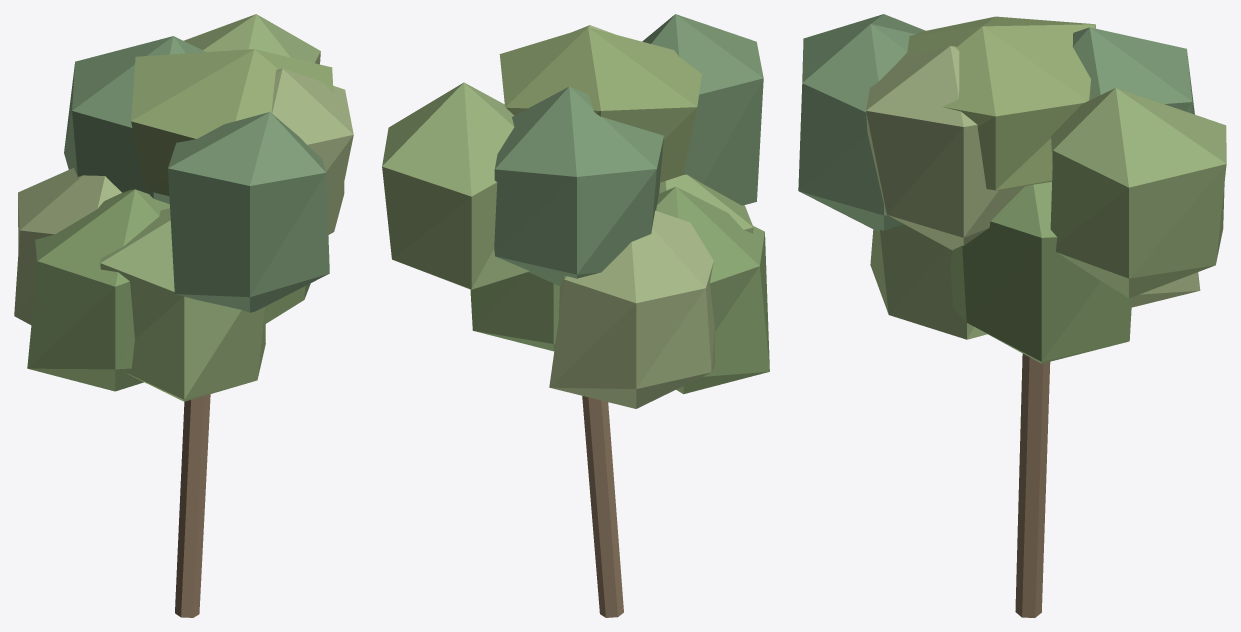
3 renders of one model, left to right at view 1: azimuth 30°, elevation 25°; view 2: azimuth 150°, elevation 25°; view 3: azimuth 270°, elevation 25°, orthographic. The views are drawn at different scales.
Bounding box in the file's own units: 3.2 × 5.11 × 3.25.
